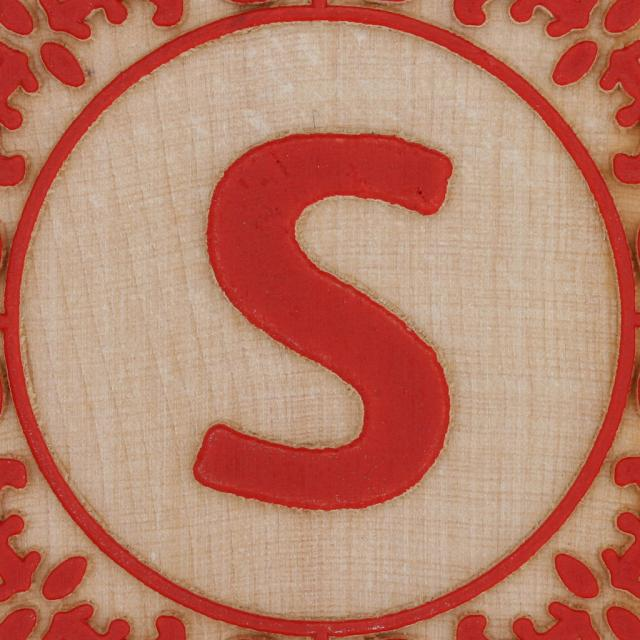S: (181, 93, 468, 554)
